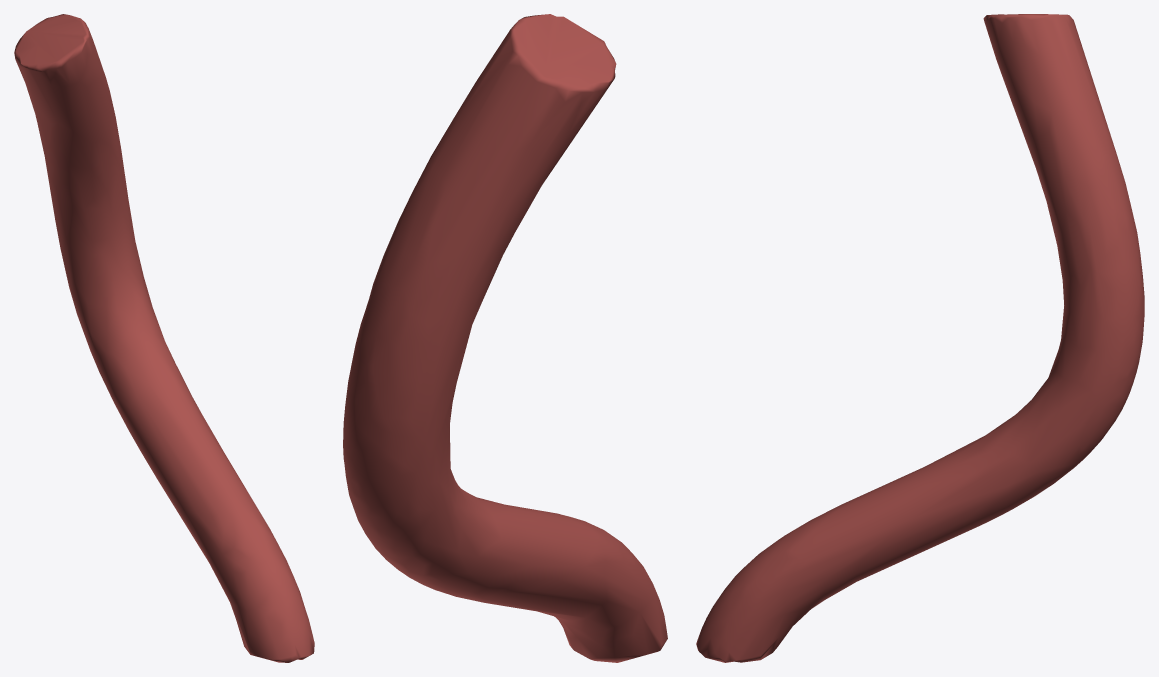
The model's file is FMA18807.glb.
The picture shows the model from 3 angles, left to right: view 1: azimuth 30°, elevation 25°; view 2: azimuth 150°, elevation 25°; view 3: azimuth 270°, elevation 25°; orthographic projection. The views are drawn at different scales.
Parts seen in each view (by area): view 1: FMA18807; view 2: FMA18807; view 3: FMA18807.
Boxes of the visible parts, x1,y1,x2,y2 form: FMA18807: (14, 14, 314, 662); FMA18807: (343, 14, 667, 662); FMA18807: (696, 14, 1144, 662).
Size of the model in its own units: 0.0273 by 0.0913 by 0.062.
